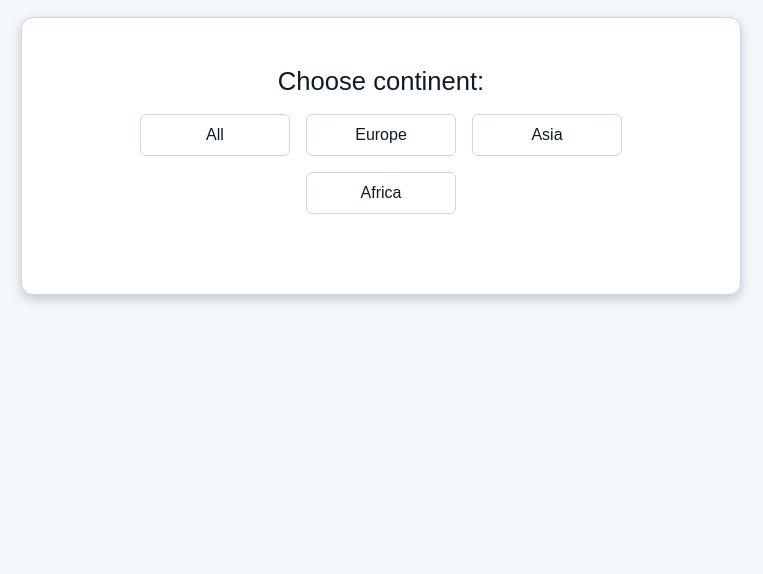
QuizSetup › "Start Quiz" button is hidden until both continent and count are selected
expect the button "Start Quiz" is not shown: met
Click the button with aria-label "Select all continents" at x=215, y=135, box [140,114,290,156]
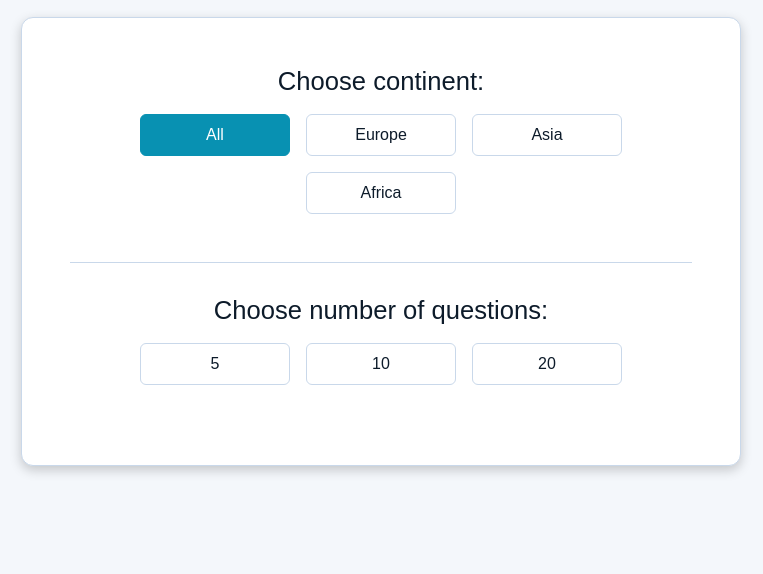
expect the button "Start Quiz" is not shown: met
Click the button named "Select 10 questions" at x=381, y=364, box [306,343,456,385]
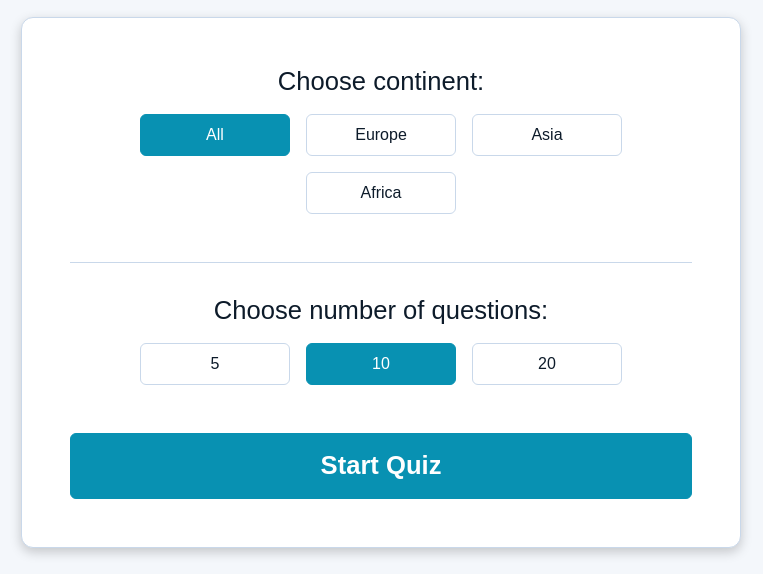
expect the button "Start Quiz" is shown: met, box [70,433,692,499]
